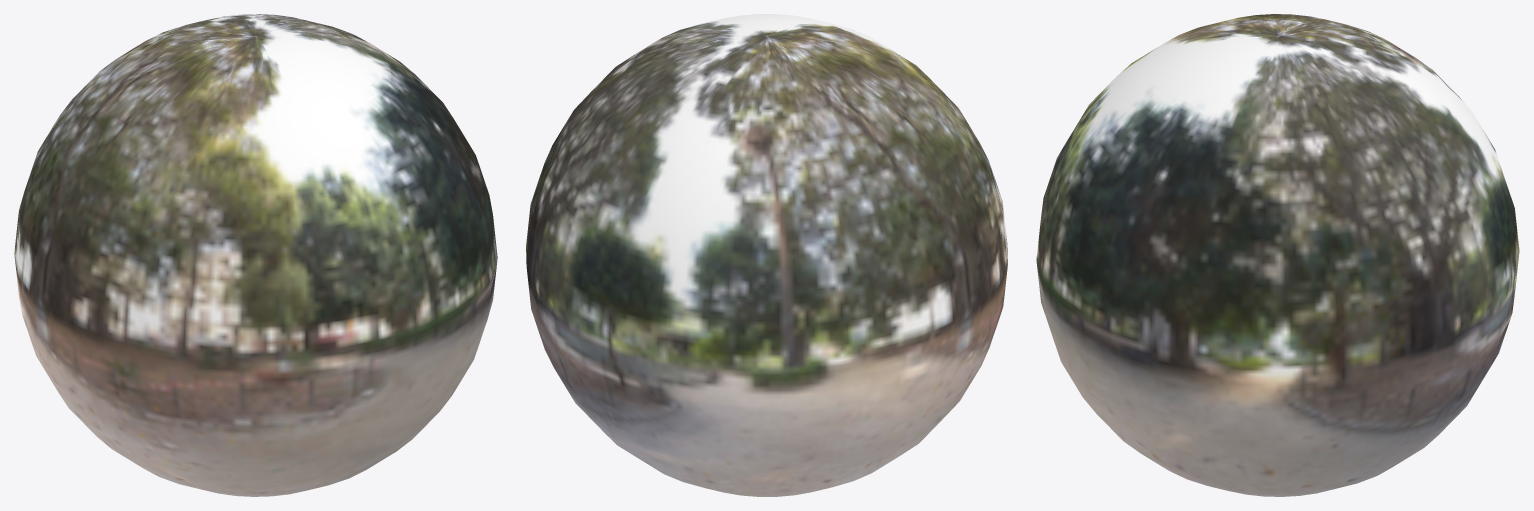
Rendered from fisher copy.glb.
3 renders of one model, left to right at view 1: azimuth 30°, elevation 25°; view 2: azimuth 150°, elevation 25°; view 3: azimuth 270°, elevation 25°, orthographic.
Visible parts, largest first — view 1: Esfera; view 2: Esfera; view 3: Esfera.
Boxes of the visible parts, bbox=[...] form: Esfera: bbox=[14, 14, 497, 496]; Esfera: bbox=[526, 14, 1007, 496]; Esfera: bbox=[1036, 14, 1519, 496].
Bounding box in the file's own units: 21.5 × 21.52 × 21.5.
23 materials, 23 textured.
